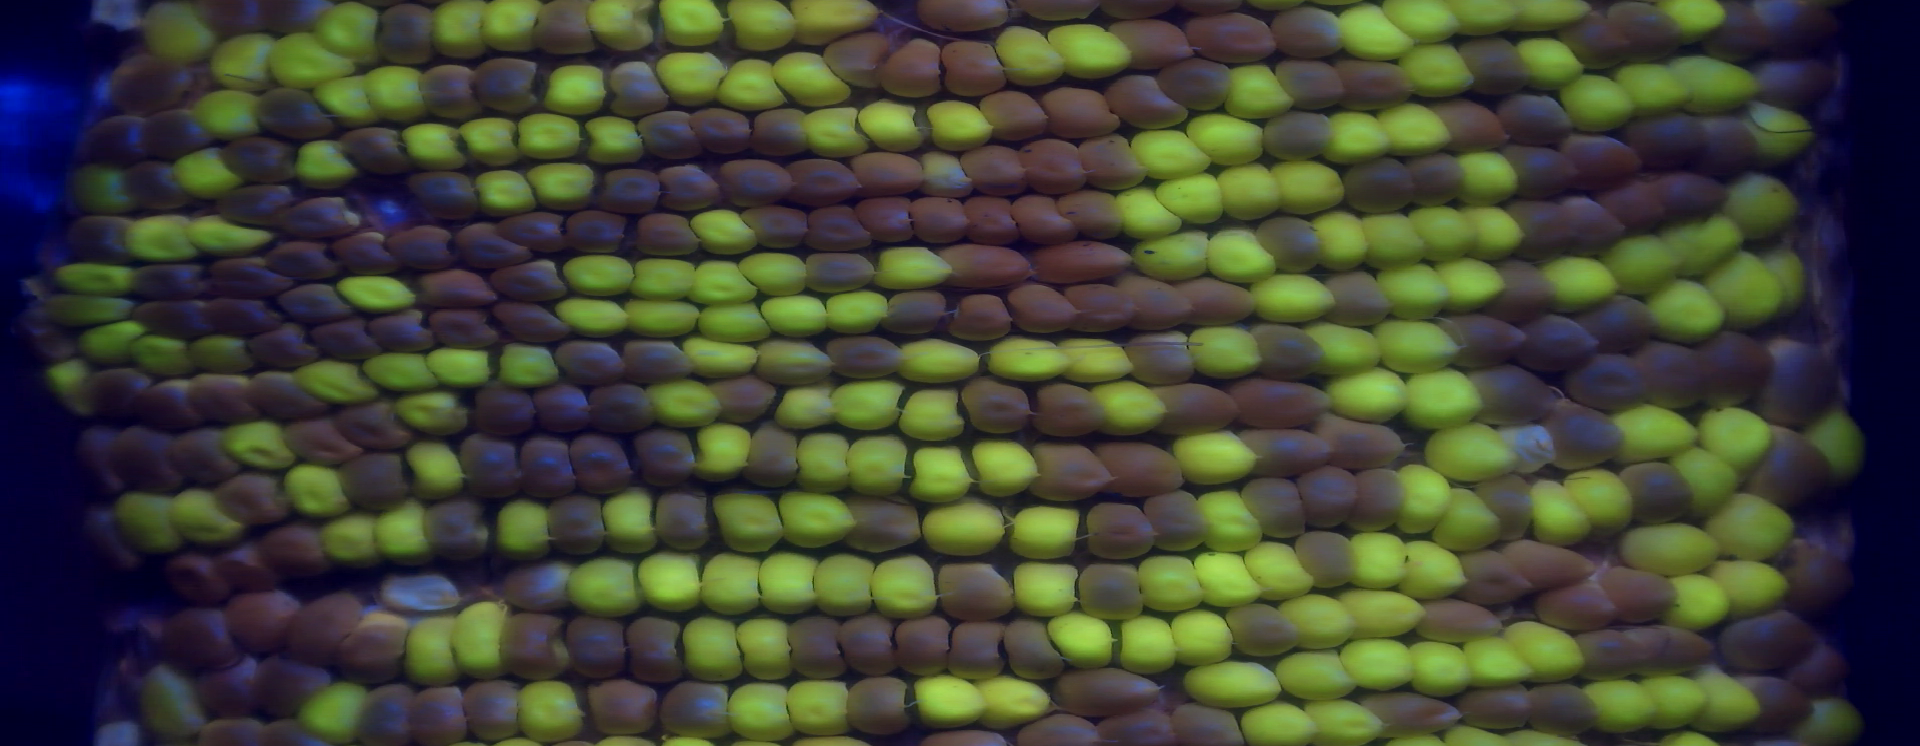fluorescent: (1367, 317, 1469, 379), (1704, 257, 1789, 330), (1420, 424, 1521, 484), (1618, 519, 1719, 578), (1701, 499, 1795, 560), (266, 31, 356, 94), (133, 665, 211, 740), (1500, 619, 1587, 684), (1177, 661, 1286, 713), (1671, 50, 1761, 113), (140, 2, 220, 70), (915, 499, 1007, 557), (1398, 367, 1488, 428), (774, 486, 857, 550), (110, 492, 187, 561), (1801, 410, 1870, 488), (629, 545, 703, 616), (1564, 472, 1640, 540), (1538, 255, 1622, 316), (710, 491, 789, 556), (864, 559, 943, 624), (1164, 434, 1259, 488), (1240, 539, 1316, 605), (770, 50, 853, 110), (1324, 367, 1408, 426), (842, 432, 916, 500), (315, 2, 389, 69), (1602, 236, 1684, 296), (1005, 559, 1084, 621), (1696, 665, 1760, 741), (719, 1, 804, 58), (1089, 382, 1171, 441), (1400, 40, 1482, 99), (1695, 408, 1772, 470), (1643, 285, 1727, 343), (1374, 261, 1457, 318), (1613, 407, 1700, 462), (1747, 98, 1820, 164), (1046, 26, 1136, 78), (567, 555, 648, 614), (1337, 2, 1418, 61), (1004, 499, 1080, 561), (371, 502, 443, 567), (1044, 609, 1117, 674), (1187, 110, 1271, 165), (722, 682, 800, 742), (969, 676, 1054, 730), (400, 615, 464, 687), (1251, 272, 1341, 323), (280, 459, 354, 522), (1340, 637, 1419, 695), (902, 442, 977, 503), (996, 26, 1071, 86), (696, 550, 763, 617), (360, 64, 431, 127), (167, 492, 249, 548), (1371, 105, 1453, 160), (1300, 320, 1386, 372), (1198, 490, 1270, 552), (1135, 555, 1209, 616), (1222, 61, 1296, 122), (513, 681, 588, 741), (1671, 445, 1738, 512), (1213, 159, 1282, 224), (1266, 160, 1351, 213), (684, 614, 748, 684), (809, 552, 880, 615), (983, 336, 1071, 386), (1725, 173, 1799, 233), (711, 58, 791, 113), (1402, 203, 1482, 258), (691, 423, 757, 489), (1433, 256, 1509, 314), (1529, 479, 1593, 548), (1431, 490, 1501, 552), (651, 50, 729, 107), (1708, 560, 1785, 616), (1151, 175, 1233, 228), (895, 391, 973, 446), (451, 600, 509, 674), (1299, 696, 1385, 746), (1344, 530, 1413, 593), (294, 682, 370, 739), (1511, 36, 1587, 92), (1129, 232, 1216, 281), (909, 675, 987, 729), (1204, 232, 1282, 285), (1113, 612, 1180, 675), (1614, 61, 1693, 114), (1280, 594, 1353, 650), (1180, 328, 1265, 377), (1660, 220, 1745, 269), (1342, 588, 1420, 641), (969, 439, 1036, 500), (201, 36, 283, 86), (1191, 550, 1262, 608), (1397, 464, 1453, 537), (731, 619, 796, 681), (895, 338, 984, 383), (1129, 127, 1211, 176), (795, 1, 885, 45), (295, 363, 381, 409), (1583, 681, 1660, 733), (429, 1, 497, 59), (523, 160, 601, 211), (1116, 186, 1185, 243), (621, 292, 703, 339), (1562, 76, 1633, 131), (599, 491, 661, 554), (576, 1, 655, 50), (1360, 205, 1424, 266), (1311, 209, 1371, 274), (1644, 674, 1711, 733), (1322, 108, 1396, 160), (398, 443, 467, 500), (1757, 250, 1813, 318), (649, 1, 727, 50), (122, 216, 201, 265), (1460, 638, 1538, 687), (855, 100, 926, 154), (758, 551, 820, 612), (1056, 339, 1138, 386), (478, 1, 546, 56), (534, 64, 611, 113), (1168, 609, 1232, 668), (1273, 653, 1360, 696), (1380, 1, 1469, 43), (833, 383, 909, 432), (454, 111, 523, 165), (578, 111, 647, 165), (560, 252, 637, 300), (192, 88, 267, 137), (69, 164, 140, 216), (490, 499, 556, 554), (397, 391, 476, 436), (75, 318, 148, 367), (310, 75, 380, 126), (869, 245, 953, 288), (689, 208, 760, 258), (1397, 543, 1464, 595), (397, 121, 469, 170), (756, 294, 831, 341), (227, 425, 302, 472), (338, 272, 422, 314), (1407, 639, 1469, 696), (321, 510, 384, 565), (786, 679, 851, 733), (557, 295, 634, 341), (182, 216, 277, 252), (512, 110, 585, 157), (493, 342, 563, 391), (359, 352, 442, 392), (473, 169, 541, 218), (922, 100, 996, 146), (691, 258, 764, 304), (1464, 205, 1528, 256), (693, 301, 774, 342), (171, 148, 242, 194), (1240, 701, 1311, 746), (801, 109, 869, 156), (740, 251, 808, 298), (42, 358, 99, 413), (793, 432, 851, 488), (1458, 154, 1521, 205), (629, 254, 702, 296), (1798, 699, 1864, 746), (1664, 576, 1727, 625), (650, 383, 721, 426), (295, 140, 359, 187), (1656, 1, 1731, 40), (50, 258, 140, 292), (1441, 1, 1531, 34), (425, 345, 490, 391), (38, 292, 140, 320), (133, 336, 197, 380), (774, 383, 836, 428), (684, 341, 759, 377), (189, 334, 258, 374), (824, 292, 894, 331), (1516, 1, 1593, 28)
nonfluorescent: (1758, 337, 1838, 432), (1744, 428, 1828, 514), (1690, 332, 1771, 418), (1630, 338, 1719, 415), (1466, 359, 1555, 432), (1316, 409, 1414, 472), (1547, 399, 1632, 470), (1044, 668, 1173, 714), (102, 54, 198, 115), (250, 659, 336, 726), (1777, 539, 1853, 614), (1622, 114, 1716, 174), (1234, 477, 1311, 549), (277, 589, 356, 659), (1498, 196, 1578, 265), (1101, 70, 1189, 132), (836, 492, 924, 555), (1145, 379, 1244, 434), (1093, 439, 1184, 499), (502, 610, 573, 686), (1551, 191, 1629, 261), (1571, 349, 1648, 418), (658, 681, 738, 746), (418, 495, 491, 566), (1227, 379, 1333, 428), (369, 1, 444, 70), (778, 617, 853, 686), (1518, 314, 1603, 375), (1080, 499, 1160, 563), (1237, 426, 1340, 477), (1713, 619, 1813, 670), (1358, 690, 1466, 737), (541, 492, 613, 563), (516, 430, 584, 505), (336, 612, 411, 680), (1625, 621, 1716, 677), (1025, 443, 1119, 497), (1037, 78, 1122, 138), (1469, 472, 1542, 541), (1340, 158, 1425, 217), (1491, 258, 1565, 327), (1155, 56, 1239, 115), (999, 615, 1068, 687), (1504, 537, 1596, 590), (222, 588, 298, 652), (1249, 320, 1327, 381), (1413, 593, 1509, 643), (1561, 132, 1644, 190), (152, 612, 242, 665), (940, 36, 1014, 100), (816, 33, 900, 89), (934, 243, 1031, 292), (469, 50, 546, 111), (1331, 54, 1417, 109), (1293, 463, 1363, 530), (1599, 567, 1682, 624), (1251, 213, 1324, 278), (260, 87, 339, 146), (333, 453, 414, 511), (1118, 274, 1199, 332), (564, 434, 636, 499), (1018, 240, 1131, 281), (1273, 54, 1347, 116), (1618, 463, 1697, 521), (1434, 94, 1509, 156), (1325, 269, 1400, 331), (1752, 54, 1838, 107), (1177, 276, 1262, 328), (1076, 131, 1149, 194), (456, 432, 528, 495), (1002, 282, 1081, 338), (528, 1, 602, 61), (562, 612, 628, 680), (1572, 628, 1653, 684), (1532, 583, 1622, 632), (1109, 17, 1198, 67), (1499, 142, 1577, 198), (1030, 381, 1104, 440), (620, 616, 684, 684), (936, 562, 1016, 616), (1740, 671, 1812, 731), (1019, 138, 1092, 197), (193, 657, 268, 714), (631, 425, 697, 490), (636, 108, 715, 162), (1609, 2, 1689, 56), (1457, 36, 1527, 97), (80, 369, 152, 428), (961, 381, 1035, 439), (336, 401, 418, 452), (1079, 562, 1147, 624), (958, 143, 1033, 198), (111, 429, 182, 488), (1453, 686, 1540, 734), (718, 156, 800, 206), (617, 333, 699, 383), (605, 60, 675, 119), (1057, 187, 1133, 241), (1498, 91, 1573, 145), (1223, 606, 1300, 659), (1057, 282, 1138, 332), (84, 505, 147, 570), (460, 676, 527, 737), (1348, 467, 1409, 533), (1434, 315, 1521, 361), (253, 527, 332, 578), (1701, 108, 1760, 176), (222, 134, 296, 187), (1586, 296, 1657, 353), (1763, 1, 1839, 54), (449, 225, 540, 269), (129, 296, 219, 341), (838, 615, 902, 676), (879, 40, 945, 100), (741, 426, 801, 492), (1265, 9, 1342, 60), (1124, 331, 1198, 385), (1460, 554, 1533, 608), (904, 194, 972, 251), (944, 621, 1013, 679), (1261, 110, 1336, 163), (485, 257, 569, 304), (496, 561, 580, 608), (418, 66, 489, 121), (336, 129, 411, 180), (162, 554, 238, 605), (584, 386, 658, 439), (587, 677, 660, 730), (1560, 16, 1633, 69), (1180, 17, 1276, 58), (203, 254, 293, 296), (1597, 183, 1668, 236), (1404, 151, 1467, 212), (76, 110, 152, 160), (212, 186, 306, 227), (1291, 533, 1357, 590), (658, 163, 730, 216), (784, 156, 863, 203), (740, 202, 813, 254), (211, 478, 291, 524), (72, 432, 133, 494), (651, 491, 713, 552), (976, 89, 1054, 137), (852, 195, 923, 247), (189, 367, 260, 420), (1780, 644, 1848, 699), (850, 147, 929, 194), (131, 160, 200, 214), (66, 216, 140, 266), (954, 191, 1024, 244), (795, 250, 878, 294), (490, 300, 573, 344), (247, 372, 331, 416), (355, 687, 418, 746), (877, 288, 951, 337), (891, 620, 956, 676), (846, 676, 911, 733), (804, 200, 876, 251), (1644, 171, 1727, 216), (684, 108, 758, 157), (493, 216, 571, 262), (1149, 492, 1205, 556), (942, 294, 1016, 342), (309, 317, 389, 361), (1171, 701, 1249, 746), (175, 430, 242, 483), (407, 169, 482, 216), (245, 326, 324, 370), (283, 420, 362, 464), (427, 304, 504, 349), (475, 383, 538, 439), (634, 208, 700, 260), (132, 383, 209, 428), (264, 241, 348, 282), (408, 688, 473, 740), (1002, 195, 1075, 240), (278, 196, 362, 235), (820, 336, 905, 375), (1708, 2, 1764, 61), (414, 268, 497, 307), (280, 279, 356, 322), (1531, 690, 1607, 733), (909, 1, 1024, 29), (1013, 712, 1111, 745), (558, 338, 629, 383), (198, 295, 280, 334), (213, 544, 280, 590), (1093, 710, 1182, 746), (362, 311, 440, 352), (192, 1, 274, 39), (144, 111, 217, 154), (710, 379, 776, 425), (384, 227, 458, 268), (561, 211, 629, 255), (749, 105, 813, 152), (260, 1, 340, 37), (602, 168, 667, 212), (531, 390, 594, 435), (331, 232, 399, 268), (132, 266, 209, 296), (192, 717, 268, 746), (923, 726, 1010, 746)
